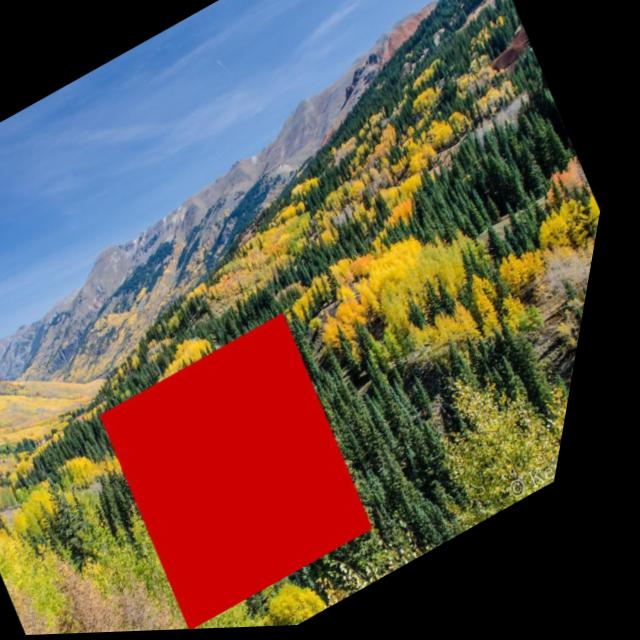RedSquare: (74, 299, 433, 635)
